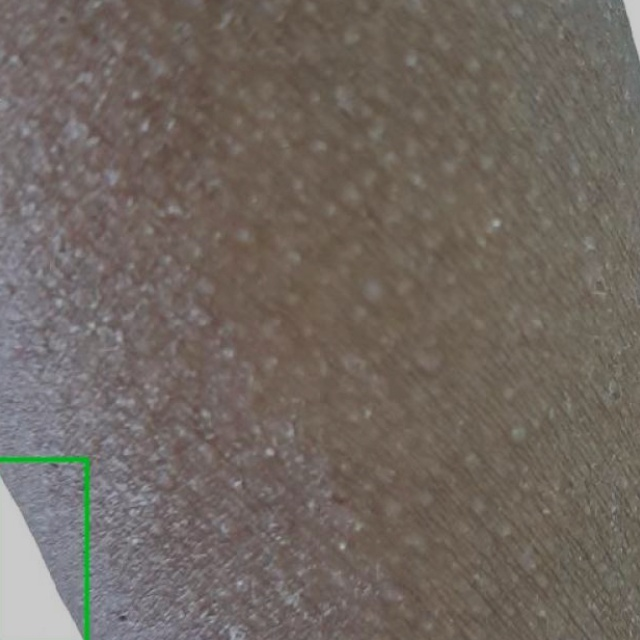Contact Dermatitis: (0, 459, 86, 639)
